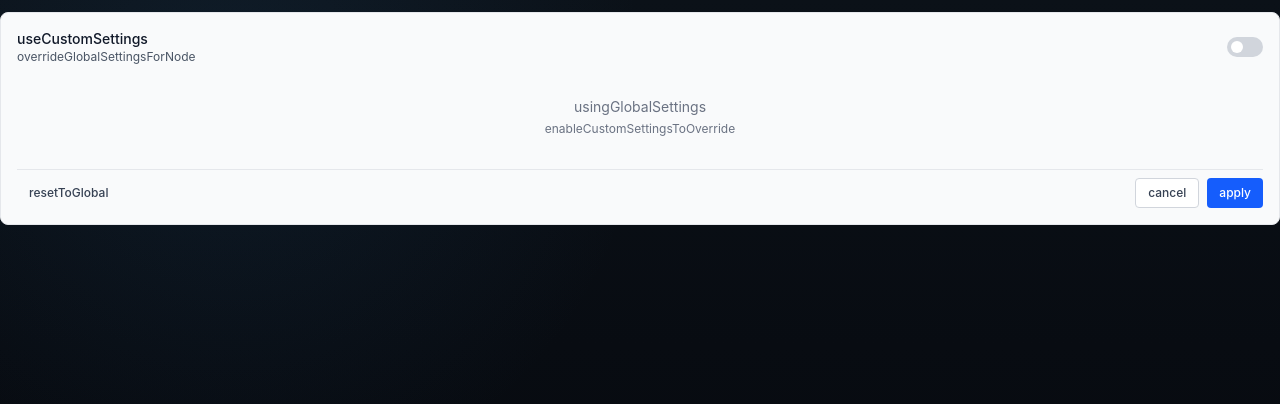
InlineNodeSettings › Smelt タイプの場合、適切な機械ランクオプションが表示される
# オーバーライドを有効化
Click the switch. click: (1245, 47)
box: left=1227, top=37, right=1263, bottom=57
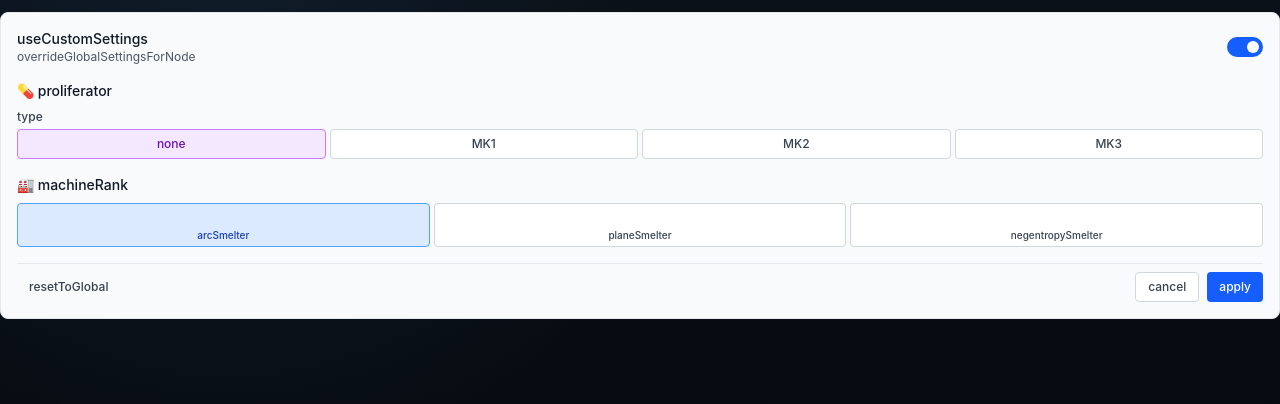
Expected: the text "arcSmelter" is shown, left=197, top=230, right=249, bottom=240
Expected: the text "planeSmelter" is shown, left=608, top=230, right=672, bottom=240
